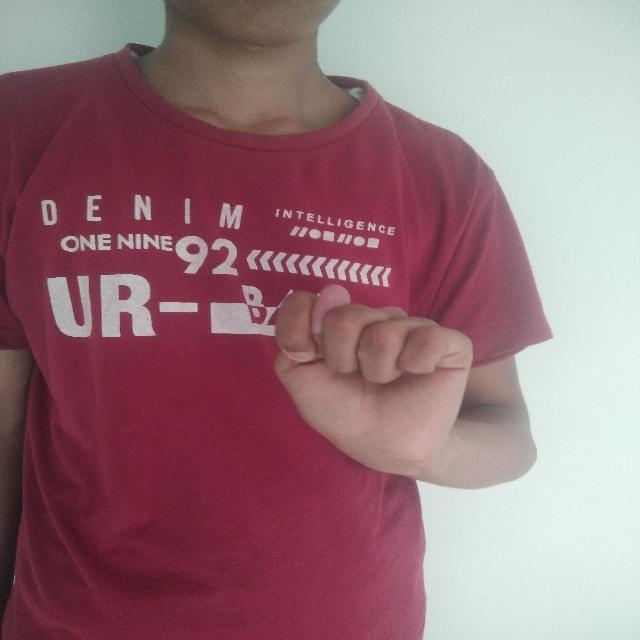Dulya: (262, 277, 481, 487)
